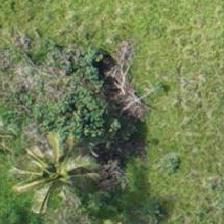coconut_tree: (15, 129, 105, 219)
